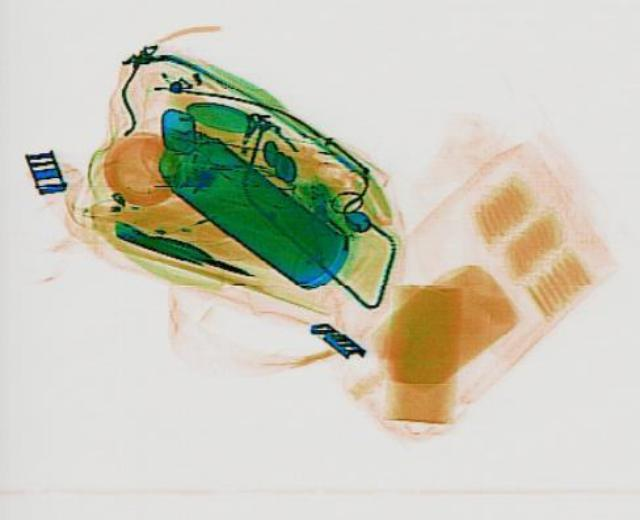Knife: (107, 216, 256, 280)
